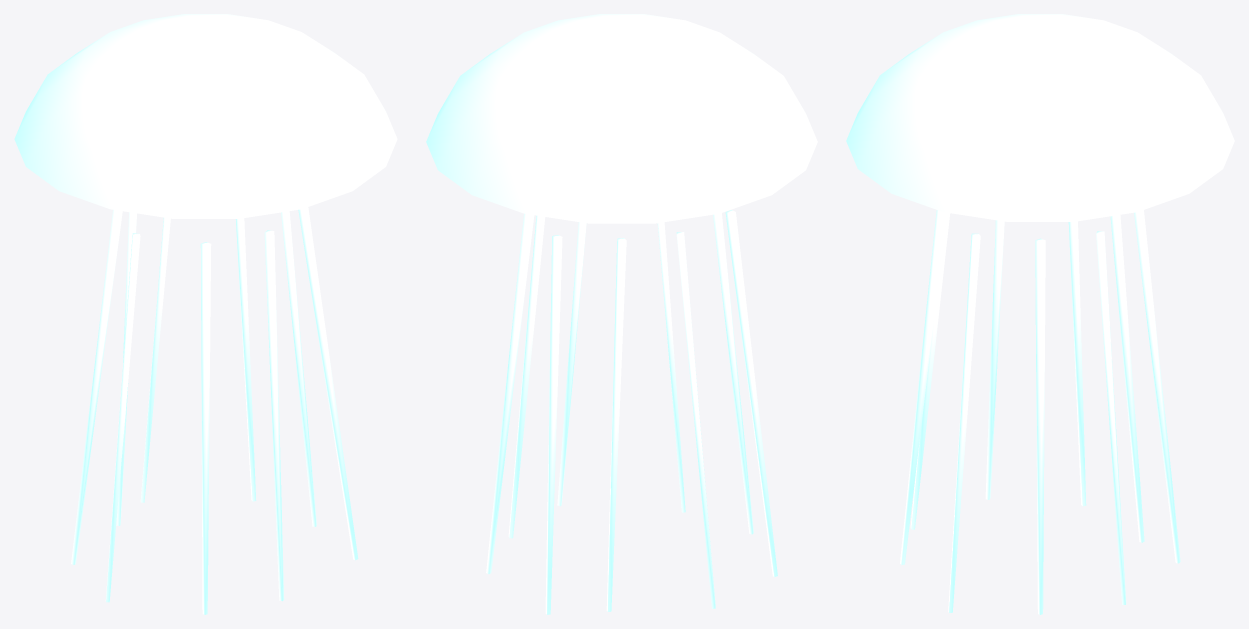
File: more-medusa.glb
3 renders of one model, left to right at view 1: azimuth 30°, elevation 25°; view 2: azimuth 150°, elevation 25°; view 3: azimuth 270°, elevation 25°, orthographic. The views are drawn at different scales.
Parts seen in each view (by area): view 1: more-medusa; view 2: more-medusa; view 3: more-medusa.
Boxes of the visible parts, <box> form: more-medusa: <box>14,14,397,614</box>; more-medusa: <box>426,14,817,614</box>; more-medusa: <box>846,14,1234,614</box>.
Size of the model in its own units: 0.8729 by 1.32 by 0.8863.
